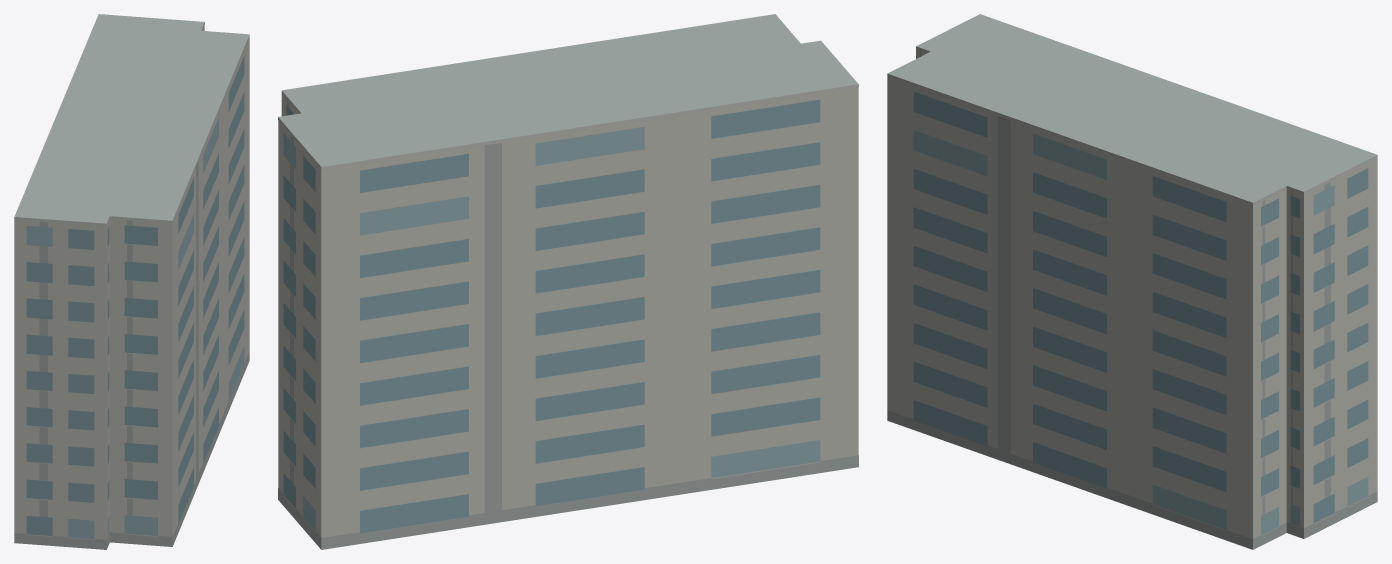
The model's file is residential-c6906cf4-6b45-42a9-93b7-be5b2459a877.glb.
3 renders of one model, left to right at view 1: azimuth 30°, elevation 25°; view 2: azimuth 150°, elevation 25°; view 3: azimuth 270°, elevation 25°, orthographic. The views are drawn at different scales.
Parts seen in each view (by area): view 1: residential-c6906cf4-6b45-42a9-93b7-be5b2459a877.tmp; view 2: residential-c6906cf4-6b45-42a9-93b7-be5b2459a877.tmp; view 3: residential-c6906cf4-6b45-42a9-93b7-be5b2459a877.tmp.
Part boxes in pixels (bbox=[...]): residential-c6906cf4-6b45-42a9-93b7-be5b2459a877.tmp: bbox=[14, 14, 249, 549]; residential-c6906cf4-6b45-42a9-93b7-be5b2459a877.tmp: bbox=[278, 14, 858, 549]; residential-c6906cf4-6b45-42a9-93b7-be5b2459a877.tmp: bbox=[887, 14, 1377, 549].
Bounding box in the file's own units: 32.02 × 27.45 × 35.14.
